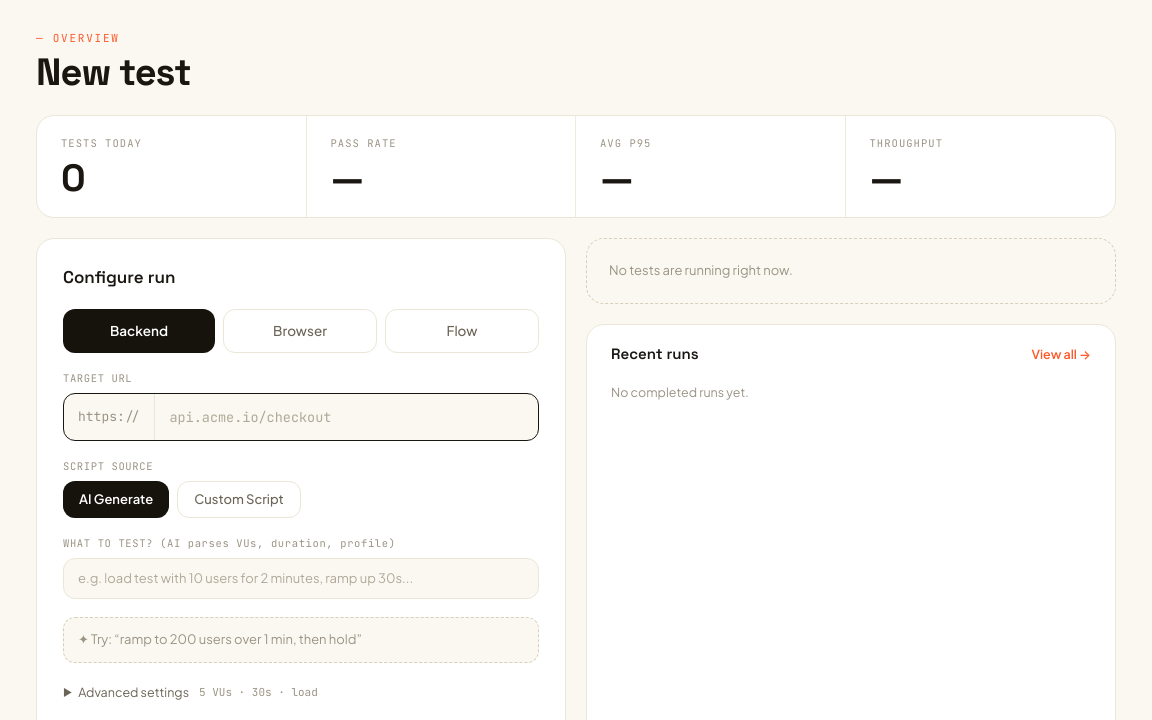
Home page — form validation › shows the server error message when createTest fails
Step 1. Type "localhost:8081" into the field with placeholder "api.acme.io/checkout" → (347,417), box [155, 407, 538, 427]
(page scrolled)
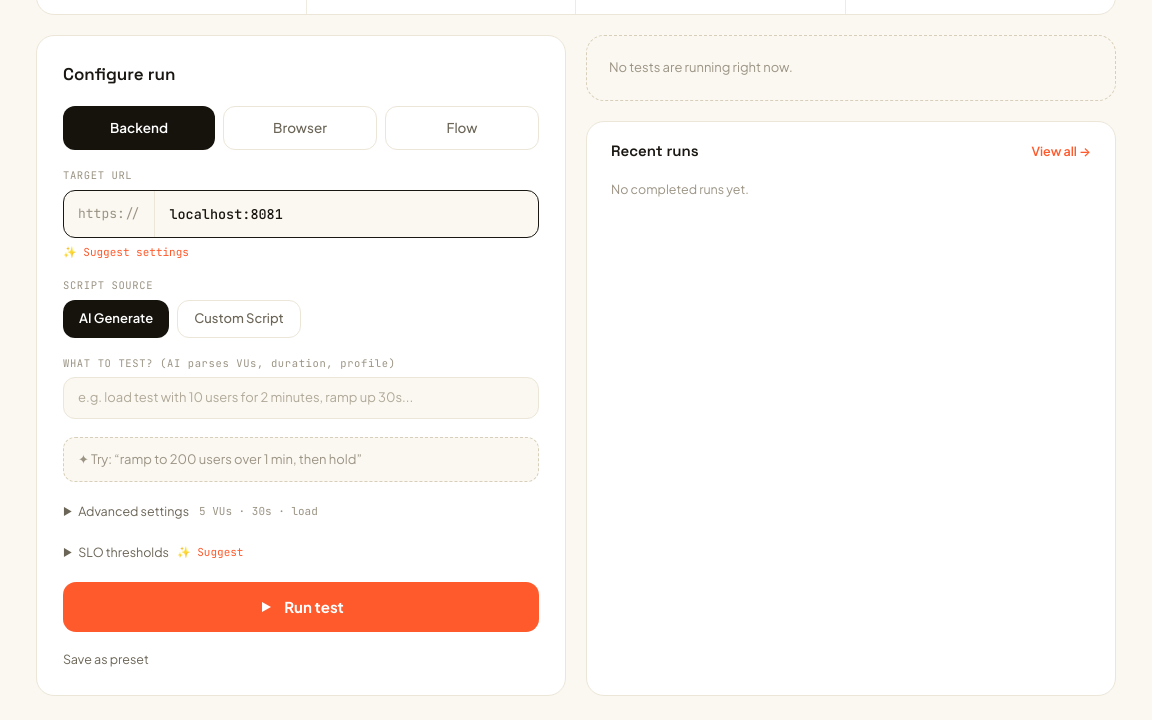
Step 2. Click the button "Run test" → (301,607), box [63, 582, 539, 632]
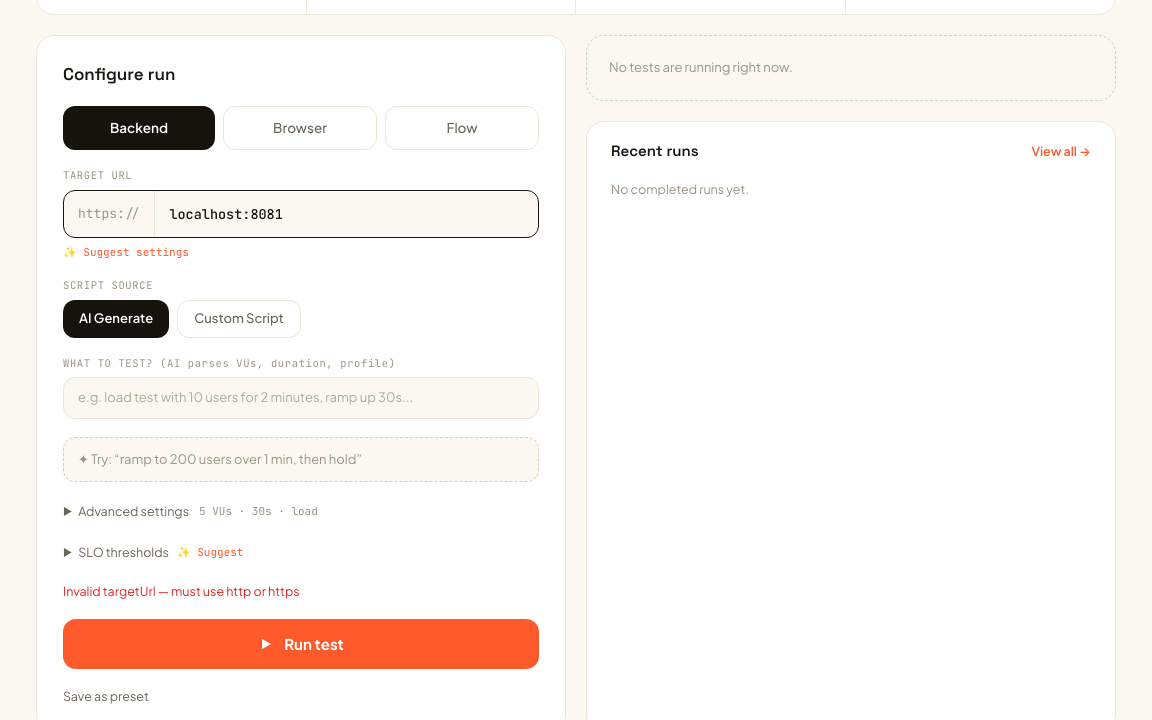
Expected: the text "Invalid targetUrl — must use http or https" is shown, [63, 583, 300, 599]
